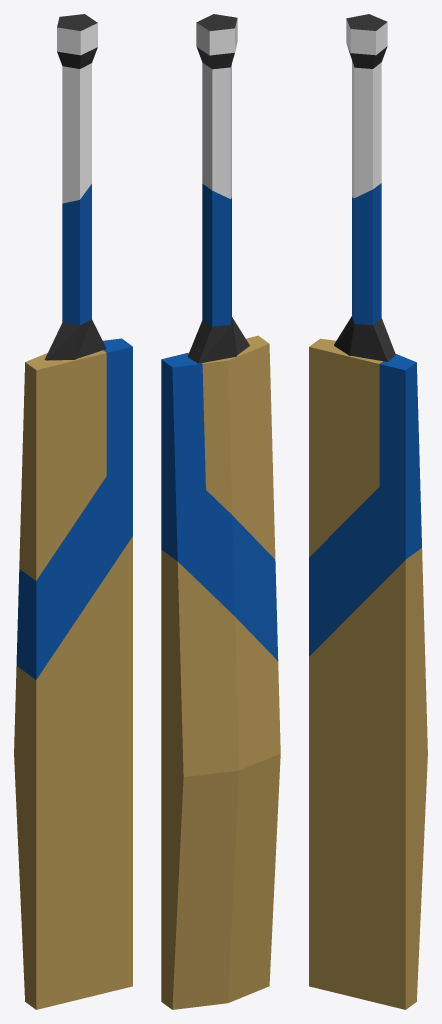
File: CrickietBat_C2.fbx
3 renders of one model, left to right at view 1: azimuth 30°, elevation 25°; view 2: azimuth 210°, elevation 25°; view 3: azimuth 330°, elevation 25°, orthographic.
Visible parts, largest first — view 1: CrickietBat_C2; view 2: CrickietBat_C2; view 3: CrickietBat_C2.
Part boxes in pixels (box(x1,y1,x2,y2)): CrickietBat_C2: box(14, 14, 132, 1009); CrickietBat_C2: box(161, 14, 280, 1009); CrickietBat_C2: box(309, 14, 427, 1009).
Size of the model in its own units: 8.12 by 77.79 by 4.47.
